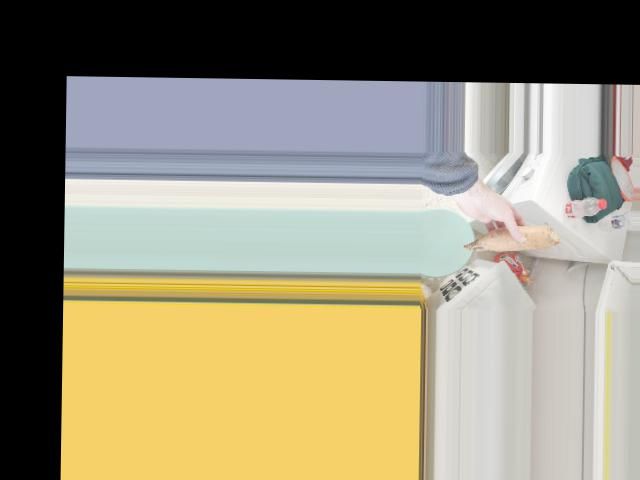sweet_potato: (461, 218, 563, 254)
